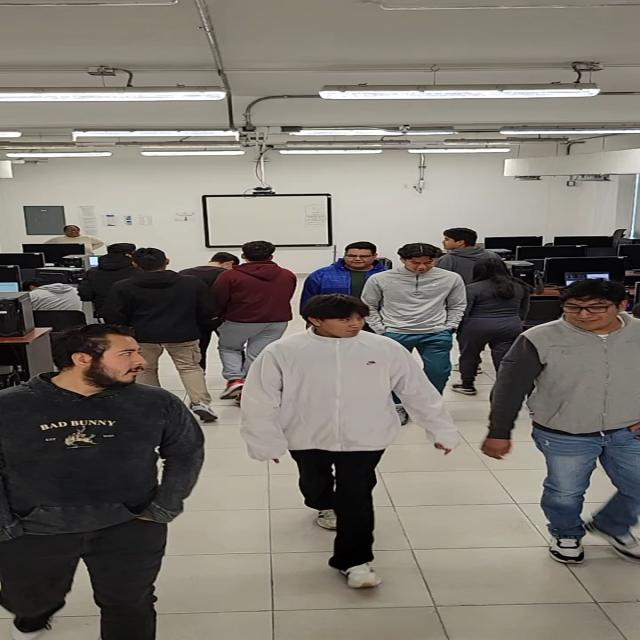Persona: (254, 294, 427, 569), (9, 324, 158, 637), (499, 279, 640, 588), (109, 250, 207, 370), (386, 248, 458, 370), (234, 239, 292, 361), (459, 261, 527, 349), (318, 237, 382, 294), (45, 220, 112, 260), (443, 226, 501, 264)
